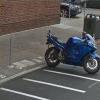Motorcycle: (37, 28, 100, 79)
